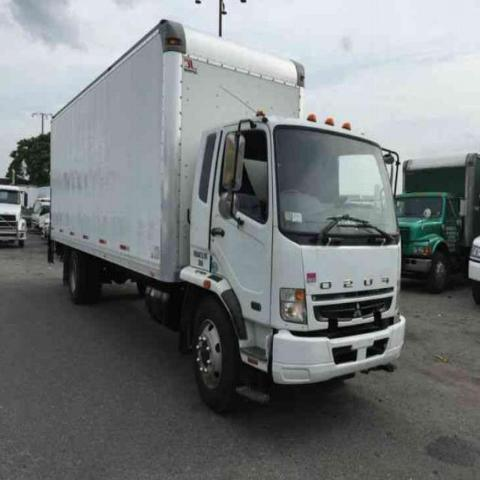truck: (51, 18, 407, 407)
